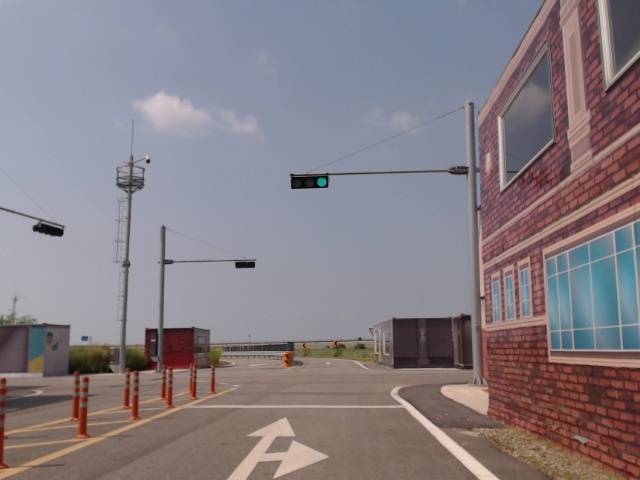green_3: (291, 175, 328, 189)
